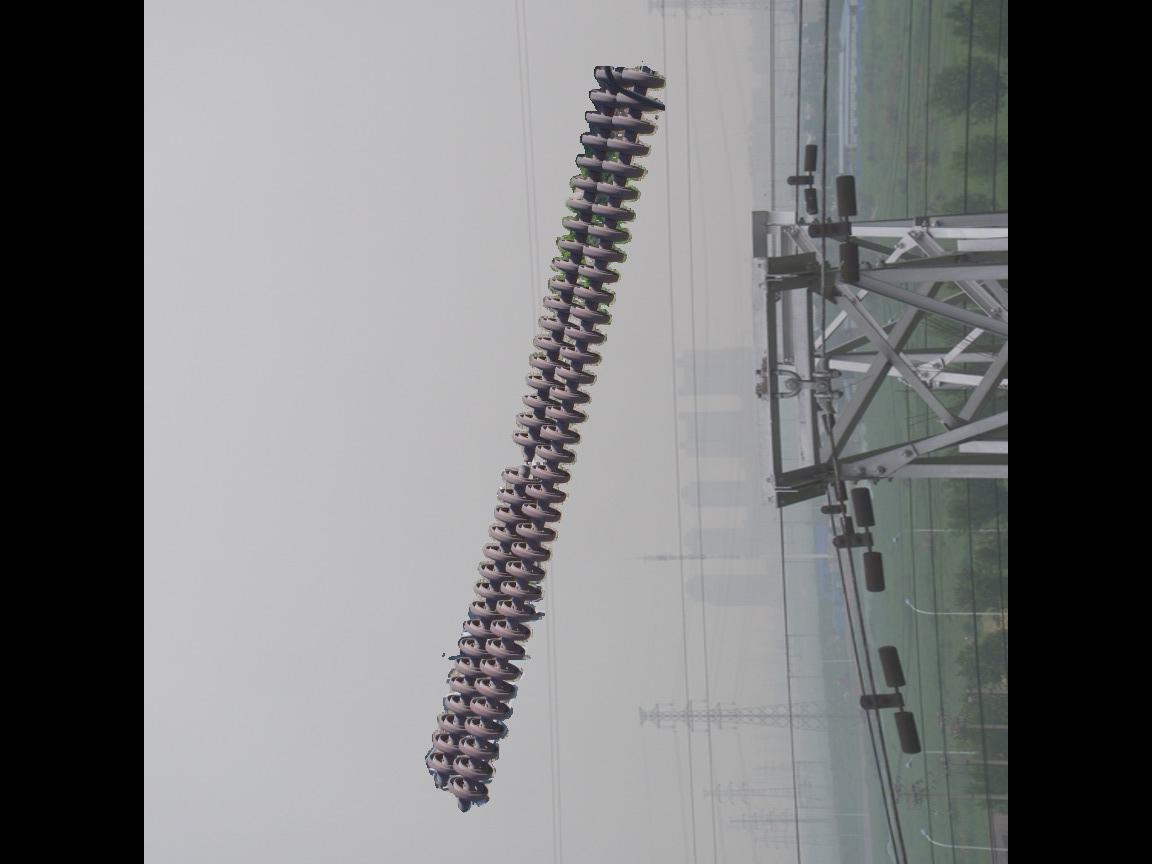insulator: (425, 60, 667, 806)
insulator_stringdrop: (491, 428, 544, 493)
